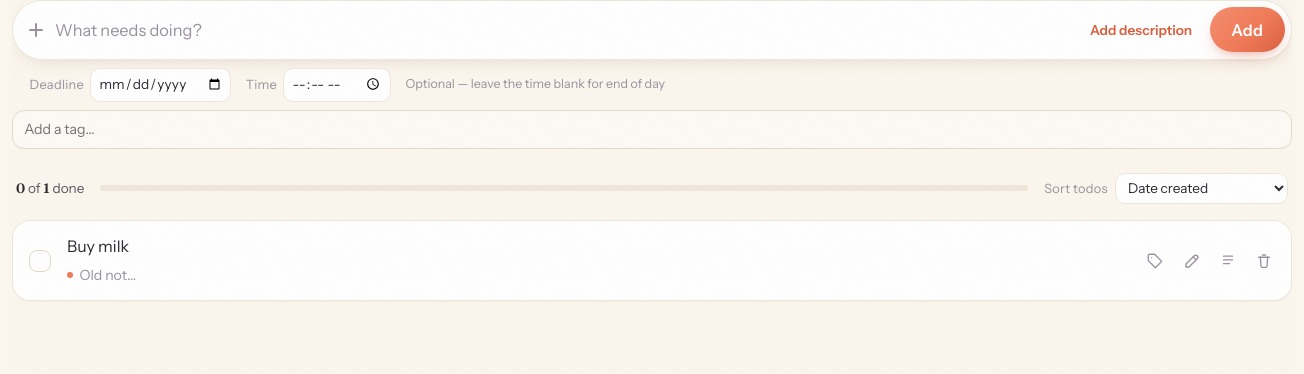
Test: TodoApp description edit › cancels on Escape without saving
This screenshot has width=1304, height=374.
Step 1. Click the button named "Edit description for \"Buy milk\"" → (1228, 261), box [1211,244,1245,278]
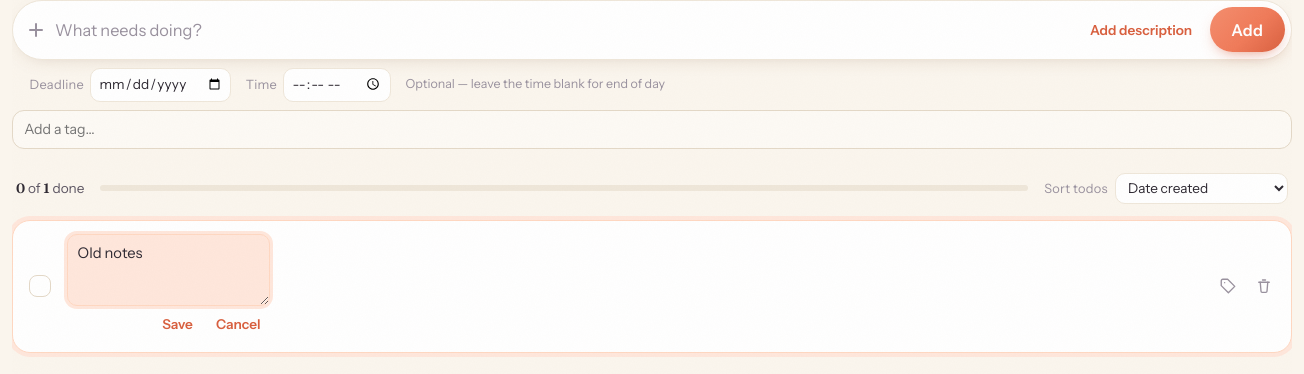
Step 2. Replace the text in the text box named "Edit todo description" with "Something else" → (169, 270), box [67,234,270,306]
Then press Escape
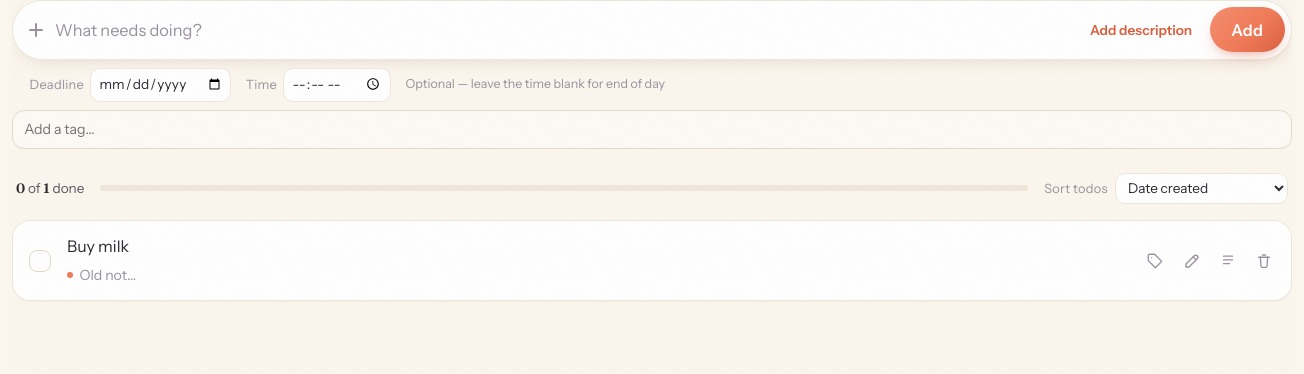
Check: the button named "Show description for \"Buy milk\"" reads "Old notes", box [63,263,142,288]
